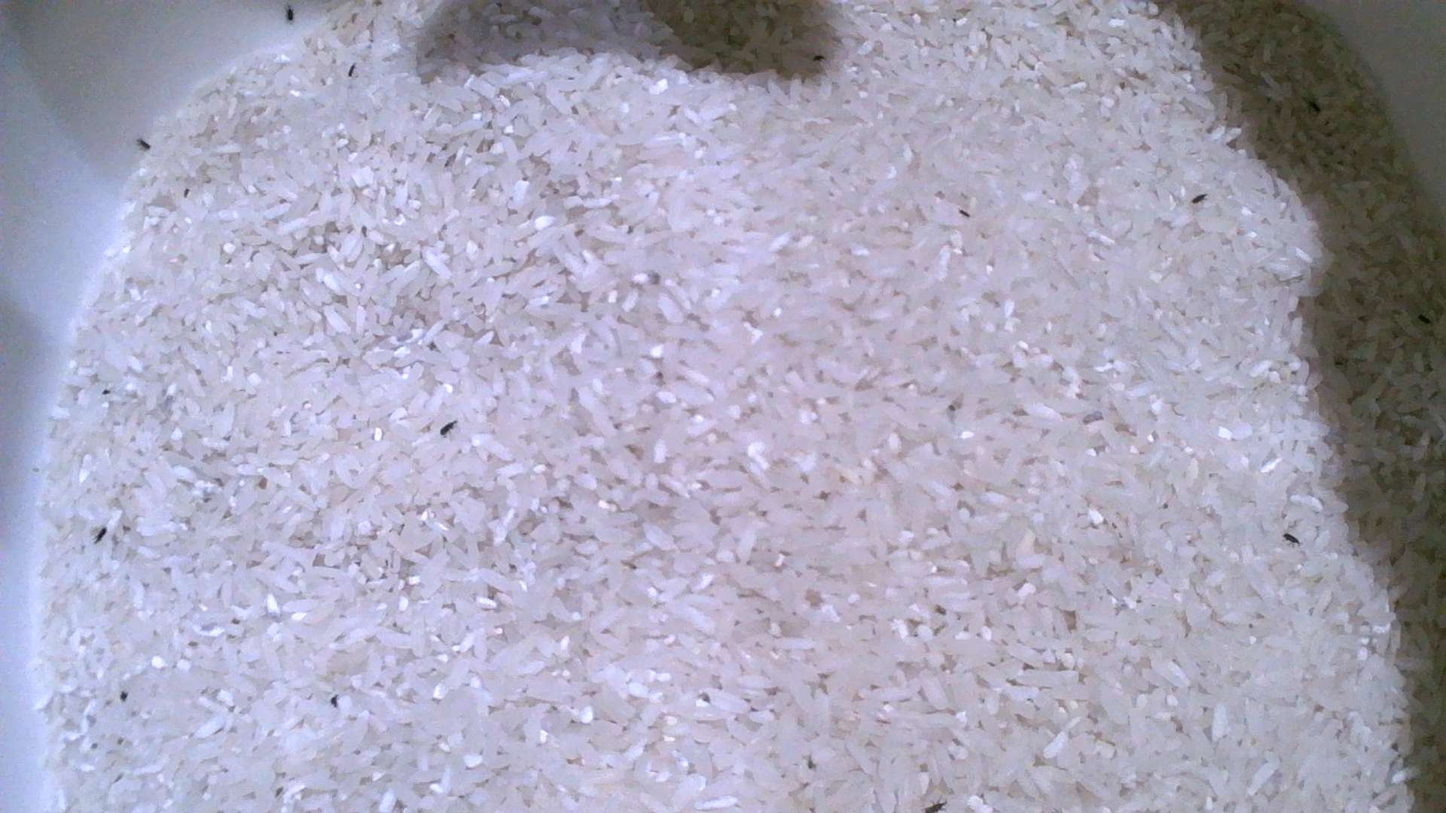Sitophilus-Oryzae: (1283, 533, 1300, 545), (136, 138, 151, 151), (285, 3, 294, 22), (1191, 193, 1207, 203)
